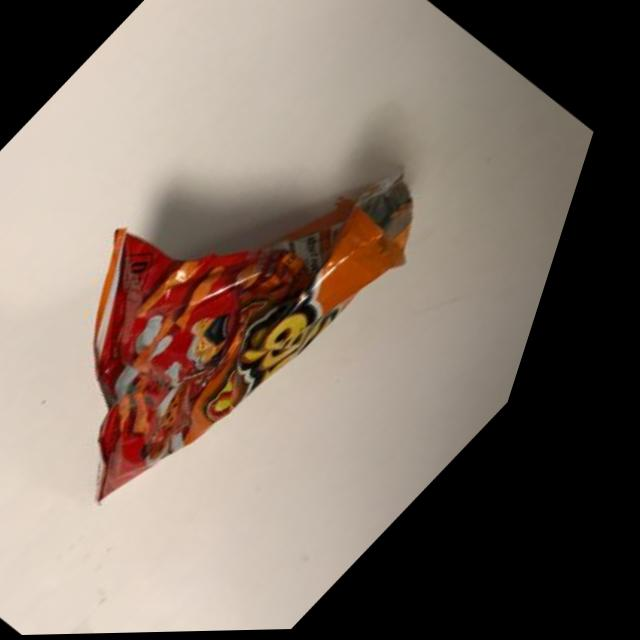trash: (0, 0, 583, 590)
